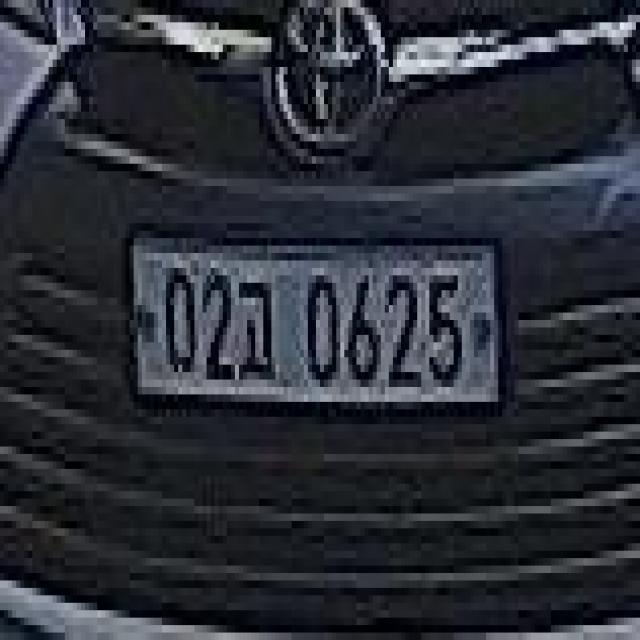illegal_plate: (126, 223, 510, 432)
